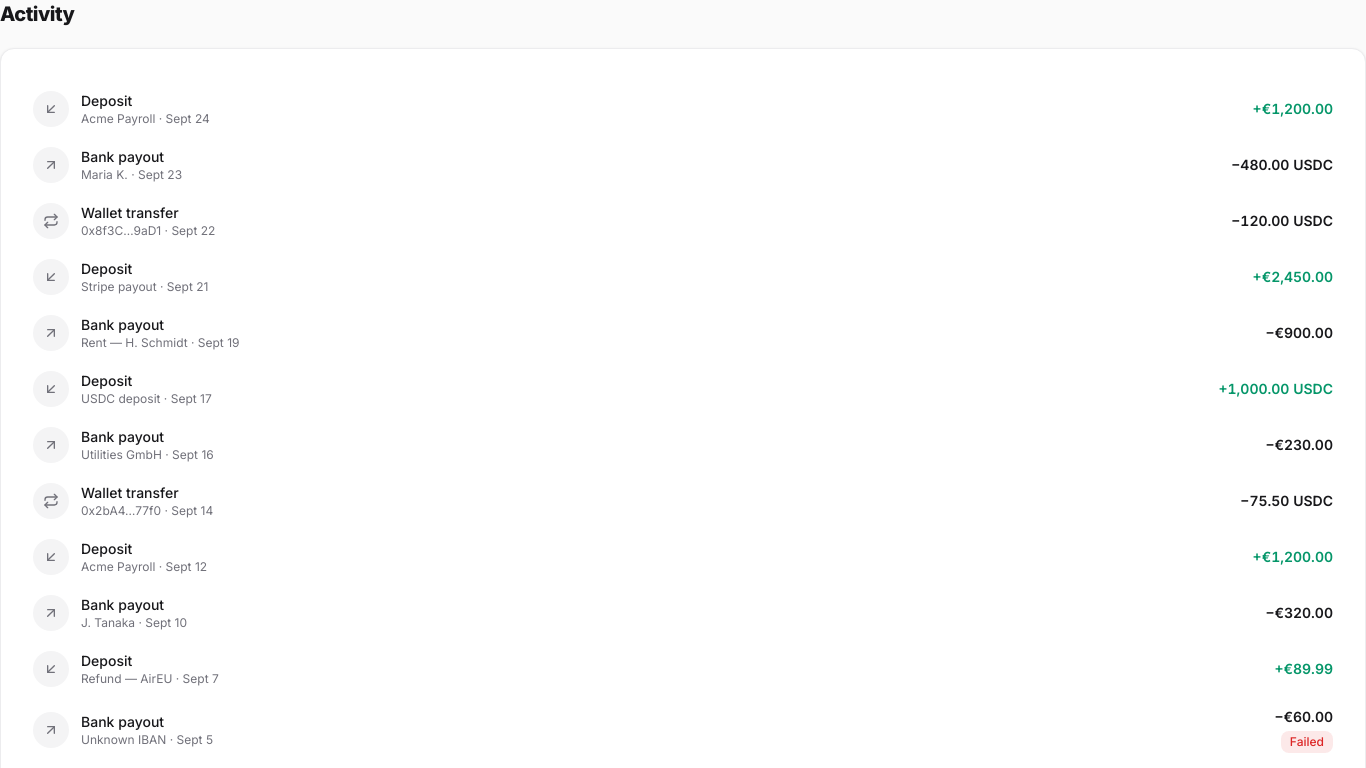
Test: Activity › lists seeded transfers and opens a detail dialog
The image size is (1366, 768).
Click the button "Bank payout" at coordinates (51, 165), box [25,137,1341,193]
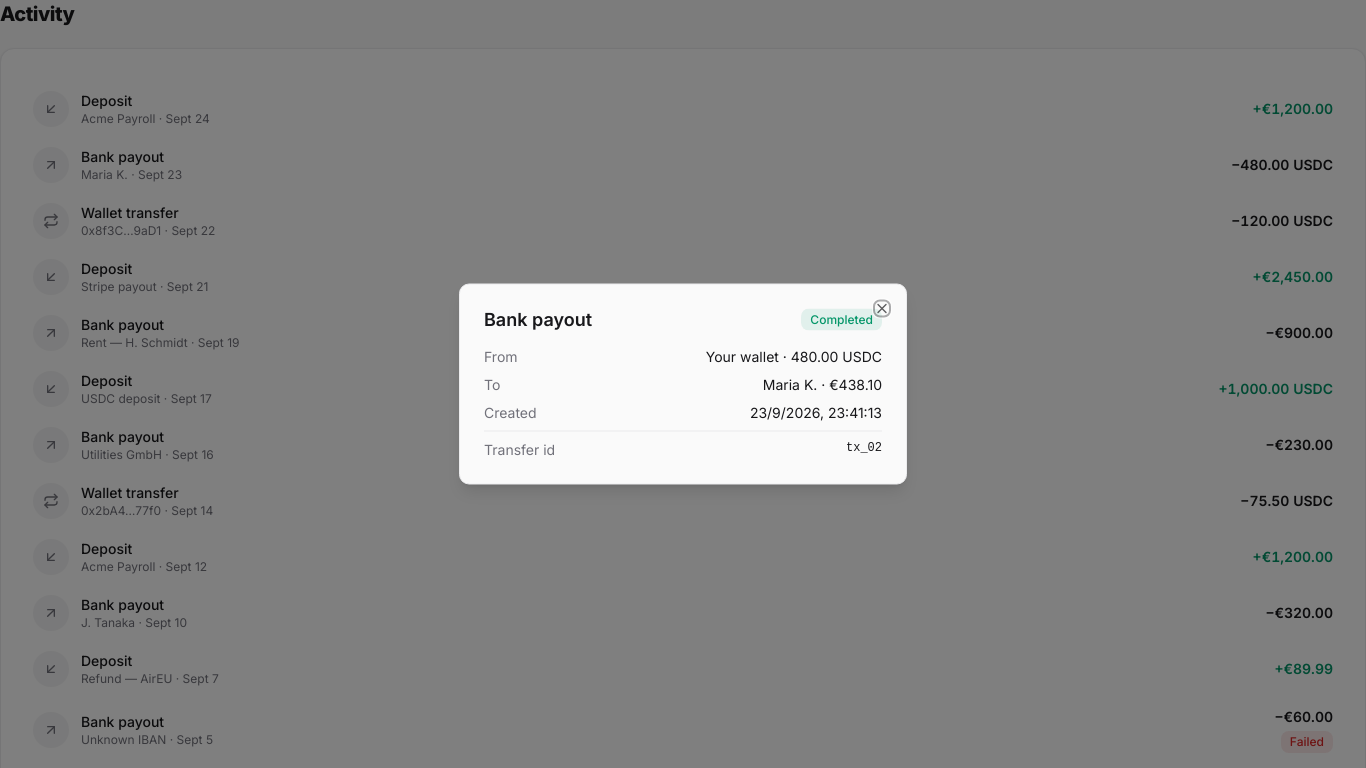
Now the text "Transfer id" is shown, box [484,440,555,460]
